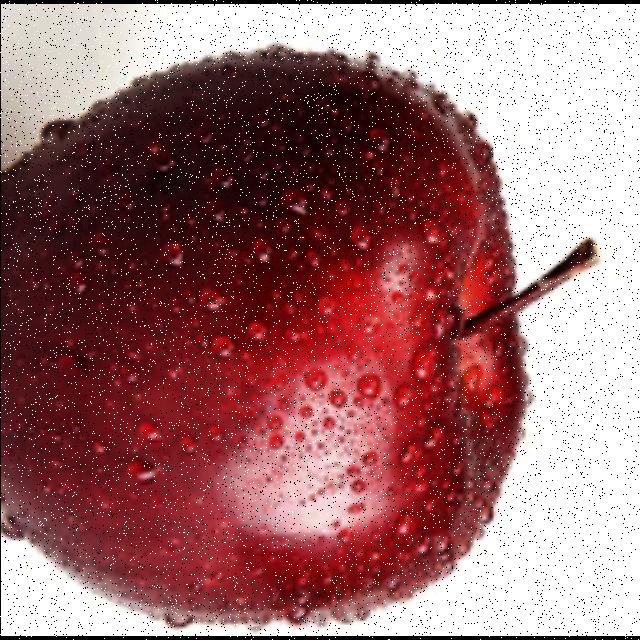Apel Segar: (0, 44, 596, 631)
